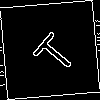T: (25, 25, 80, 78)
